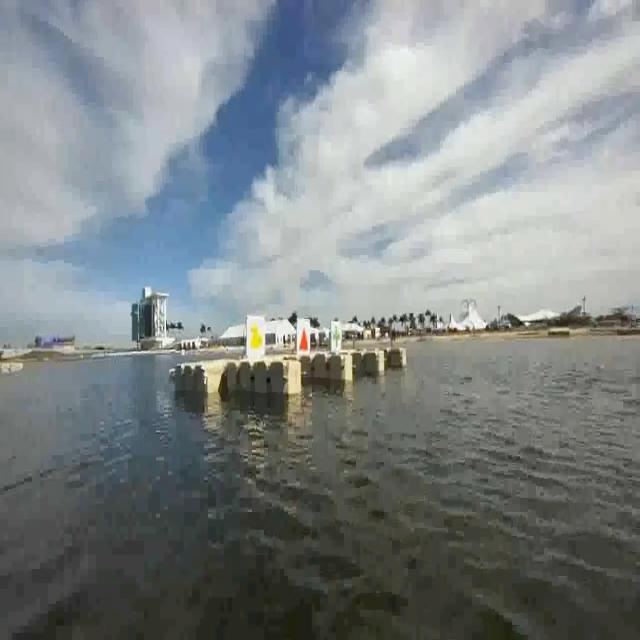blue-cross: (329, 320, 342, 352)
yellow-duck: (247, 315, 268, 361)
